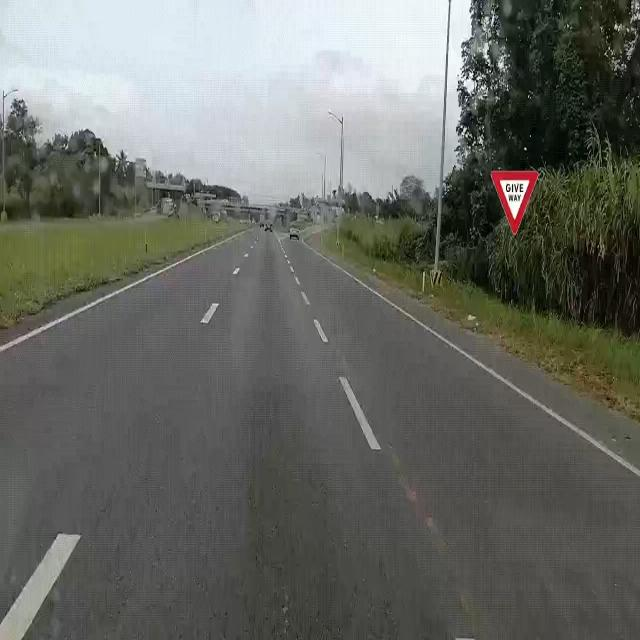Ceder-le-Passage: (484, 159, 542, 245)
